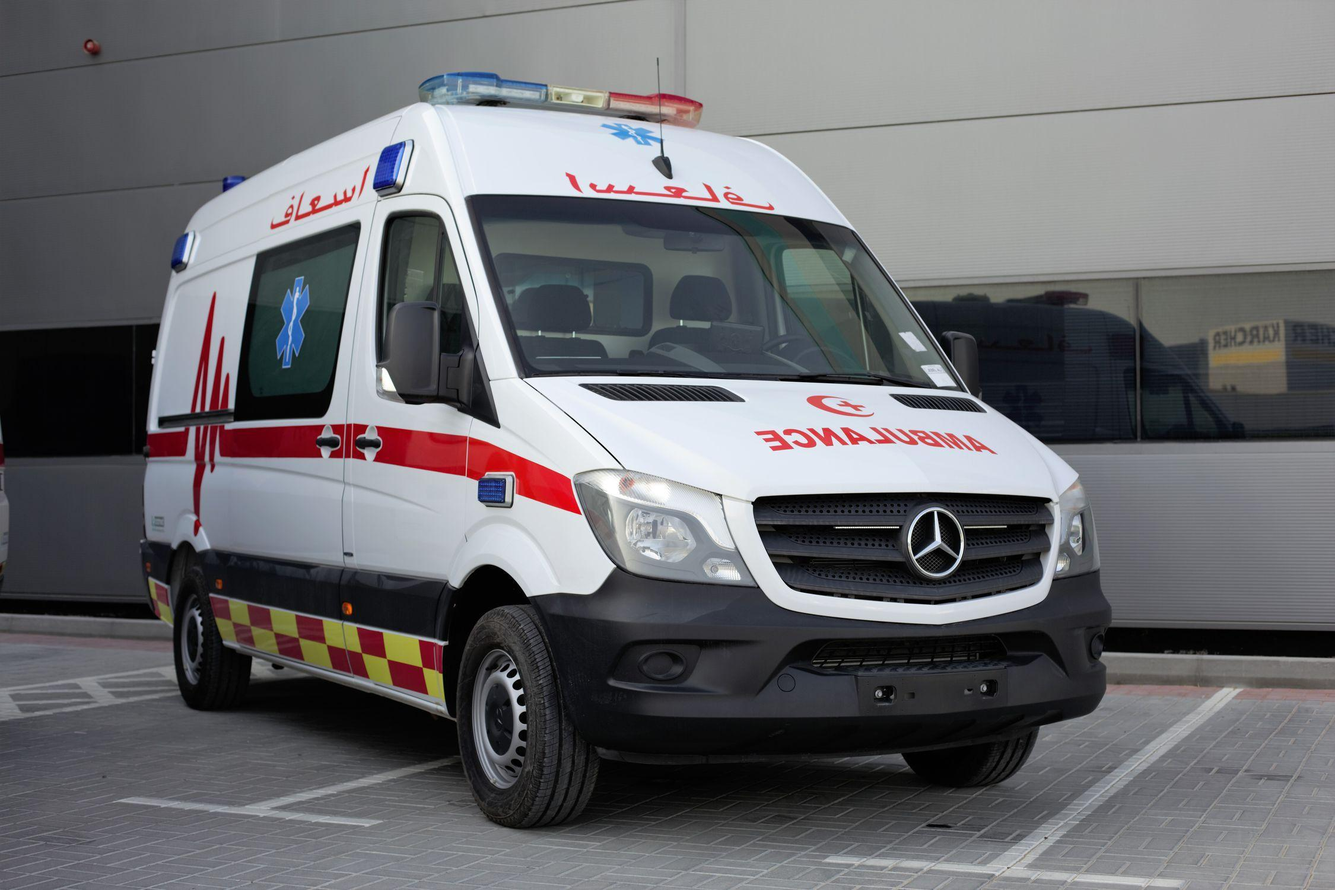Ambulance: (752, 420, 1029, 484)
